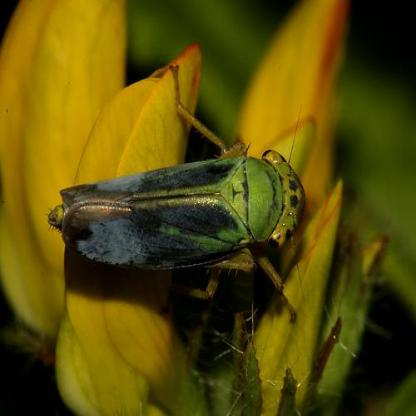Green-Leafhopper: (41, 73, 297, 336)
